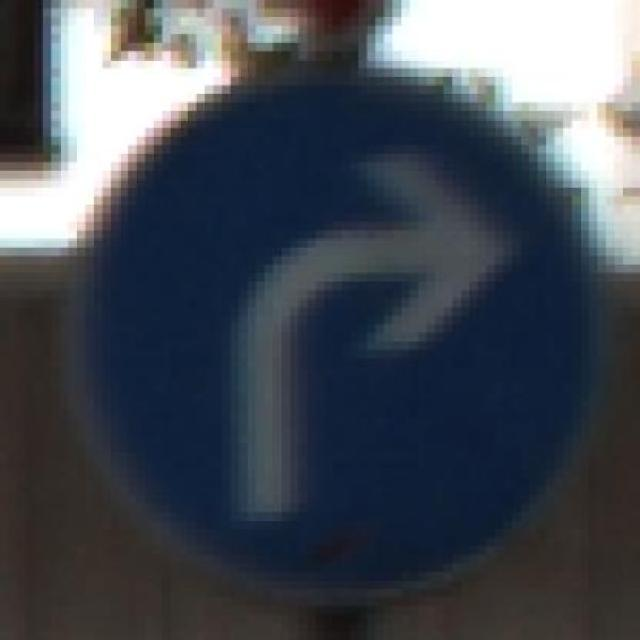Turn right ahead: (60, 59, 606, 598)
